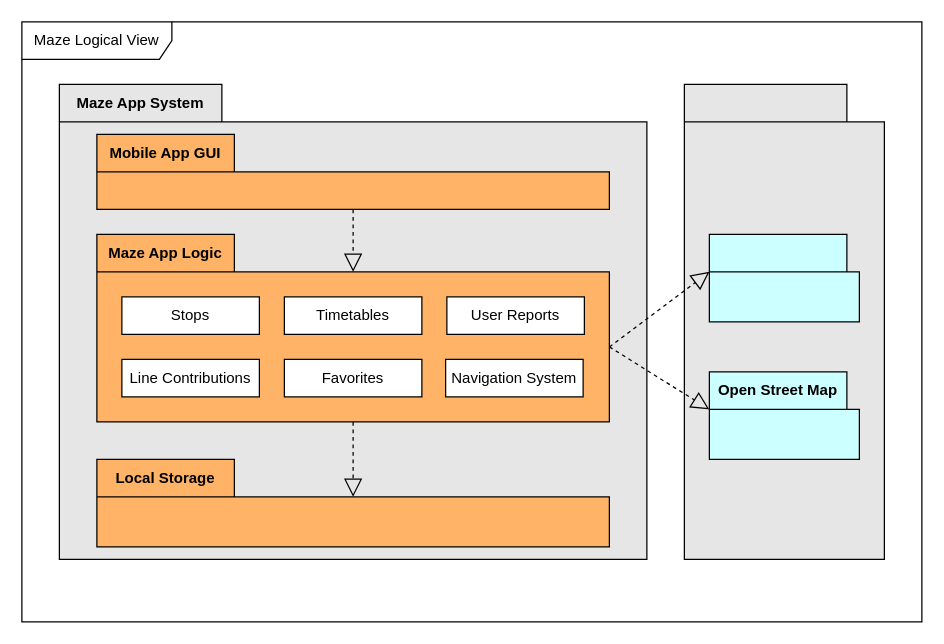
Image size: 944x644. Some labels were removed from this diagram. The shapes that lost their labels are listed below. From the top down, each one's box as (x1, y1, x2, y2) in pixels, then its label:
(708, 233, 859, 322): Firebase
(683, 83, 884, 559): External Services
